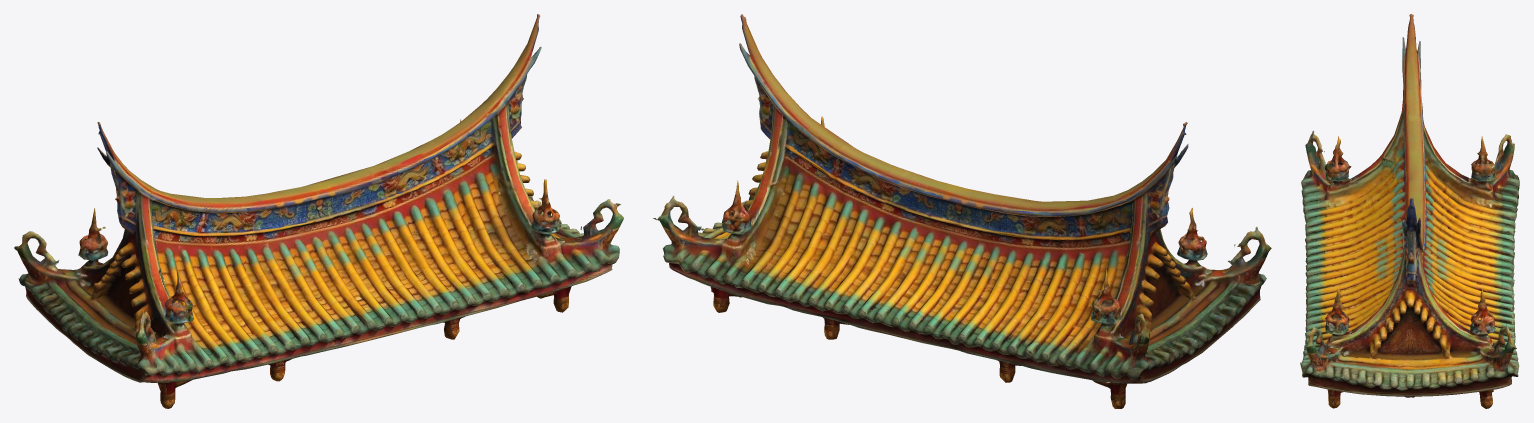
The model's file is roof3.glb.
3 renders of one model, left to right at view 1: azimuth 30°, elevation 25°; view 2: azimuth 150°, elevation 25°; view 3: azimuth 270°, elevation 25°, orthographic. The views are drawn at different scales.
Bounding box in the file's own units: 0.9875 × 0.4959 × 0.448.
Materials: 1 (1 with a texture image).
